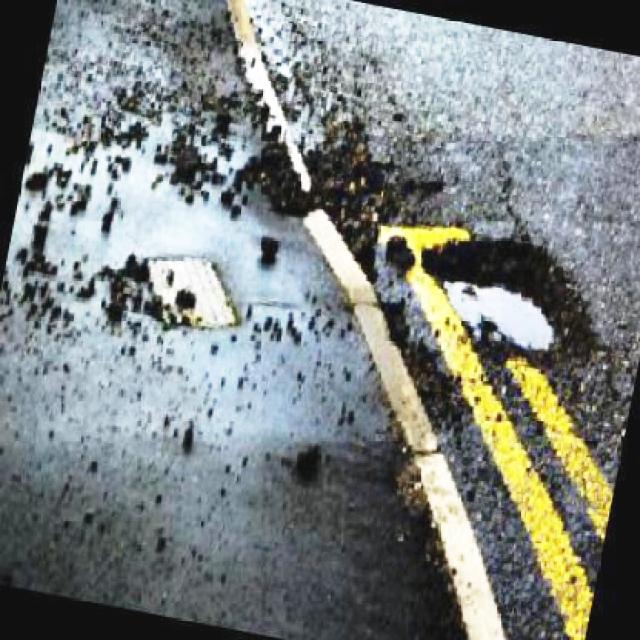pothole: (415, 228, 608, 377)
